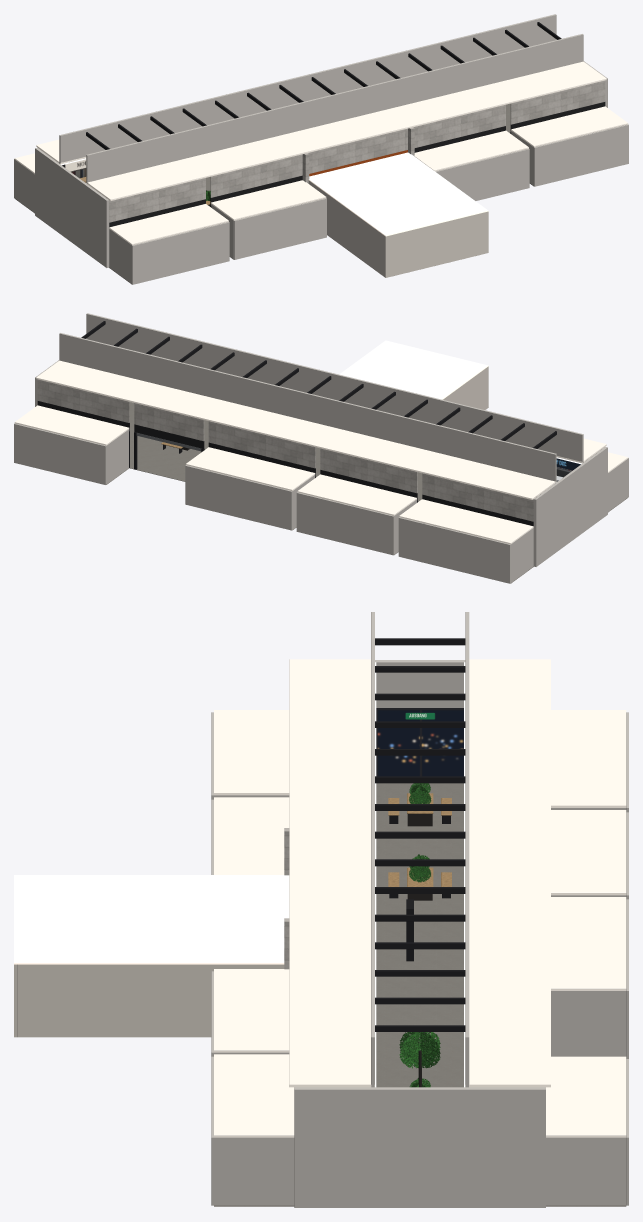
The model's file is laden.glb.
3 views of the same model, one above another, from view 1: azimuth 30°, elevation 25°; view 2: azimuth 150°, elevation 25°; view 3: azimuth 270°, elevation 25° (orthographic). The views are drawn at different scales.
Visible parts, largest first — view 1: mall|mall_wand|0, mall|mall_decke|0, mall|beton|0, decke|decke|0, laden|wand|0, mall|schwarz_matt|0, mall|schwarz|0; view 2: mall|mall_wand|0, mall|mall_decke|0, mall|beton|0, decke|decke|0, mall|schwarz_matt|0, mall|mall_boden|0, mall|schwarz|0, laden|wand|0; view 3: mall|mall_decke|0, mall|mall_wand|0, decke|decke|0, mall|mall_boden|0, laden|wand|0, mall|schwarz|0, mall|ausgang|0, mall|blatt|0, mall|mall_licht|0, mall|eiche|0.
Boxes of the visible parts, x1,y1,x2,y2 form: mall|mall_wand|0: (14,14,628,284); mall|mall_decke|0: (14,61,628,245); mall|beton|0: (41,80,605,222); decke|decke|0: (308,152,488,236); laden|wand|0: (308,180,488,277); mall|schwarz_matt|0: (62,102,605,227); mall|schwarz|0: (74,22,561,207); mall|mall_wand|0: (14,313,628,583); mall|mall_decke|0: (14,360,628,544); mall|beton|0: (37,379,601,521); decke|decke|0: (339,340,488,399); mall|schwarz_matt|0: (37,401,533,526); mall|mall_boden|0: (129,402,422,501); mall|schwarz|0: (81,321,556,502); laden|wand|0: (443,366,488,409); mall|mall_decke|0: (214,659,626,1137); mall|mall_wand|0: (211,612,628,1207); decke|decke|0: (14,875,289,964); mall|mall_boden|0: (376,783,463,1087); laden|wand|0: (14,964,284,1037); mall|schwarz|0: (375,638,465,1031); mall|ausgang|0: (376,708,463,776); mall|blatt|0: (399,783,440,1087); mall|mall_licht|0: (375,662,465,1087); mall|eiche|0: (388,793,451,886).
Size of the model in its own units: 40.4 by 7.43 by 24.45.
Materials: 60 (38 with a texture image).
